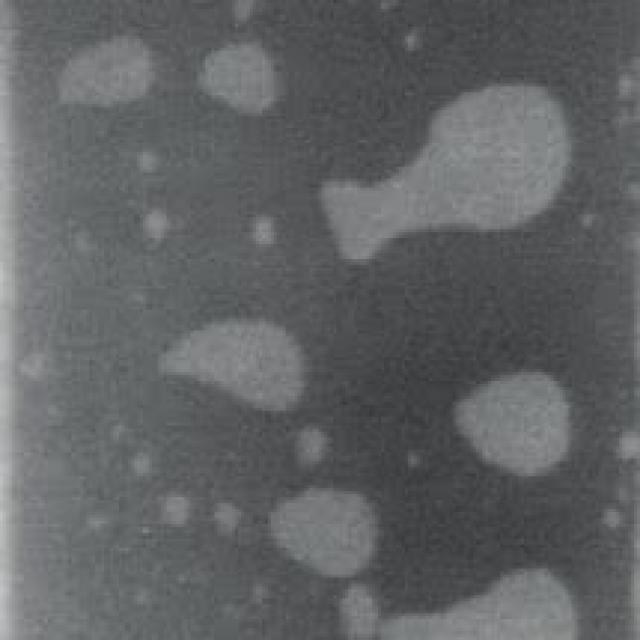component: (0, 0, 640, 640)
void: (322, 89, 570, 260), (152, 319, 304, 414), (378, 569, 580, 640), (452, 369, 572, 479), (271, 488, 378, 580), (56, 31, 151, 108), (194, 44, 276, 109), (343, 585, 377, 639), (300, 425, 327, 472), (213, 503, 241, 534), (163, 495, 189, 526), (143, 209, 168, 239), (620, 432, 640, 466), (250, 217, 274, 245), (73, 226, 97, 254), (602, 505, 627, 527), (22, 354, 42, 380), (234, 0, 253, 26), (249, 580, 266, 604), (616, 107, 636, 126), (139, 150, 156, 171), (135, 454, 150, 474), (406, 32, 419, 53), (620, 75, 631, 95), (138, 583, 148, 603), (383, 0, 397, 14), (89, 515, 104, 527), (629, 56, 639, 72), (628, 185, 640, 198), (408, 451, 417, 466), (581, 213, 590, 226)
